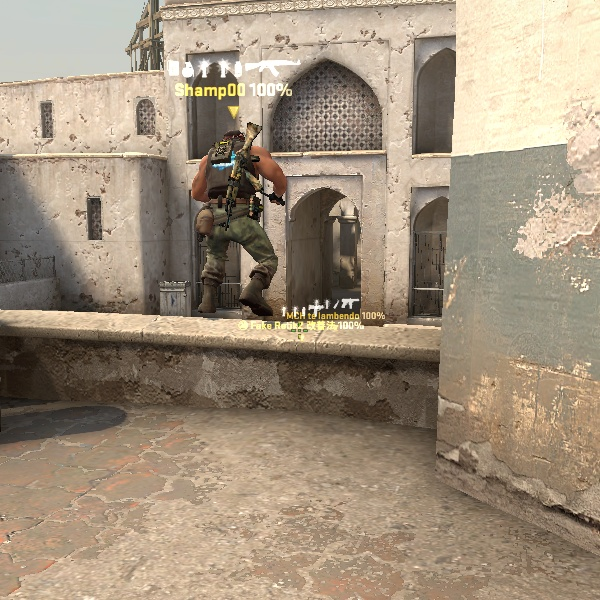t_body: (178, 116, 295, 318)
t_head: (216, 119, 260, 162)
